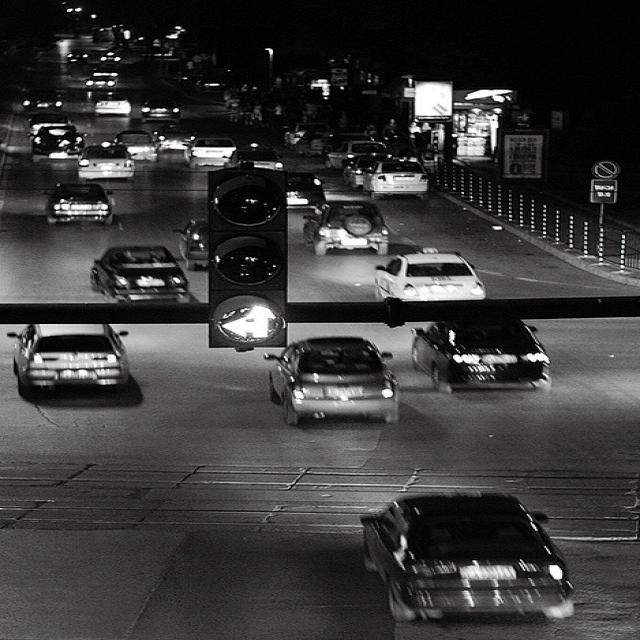car: (14, 0, 389, 182), (348, 494, 569, 614), (259, 336, 397, 424), (408, 313, 550, 393), (4, 322, 128, 396), (86, 243, 188, 303), (372, 248, 484, 300), (299, 199, 386, 253), (351, 149, 427, 195), (40, 181, 113, 226), (74, 145, 134, 181), (277, 170, 323, 214), (174, 216, 208, 268), (182, 136, 234, 166)
